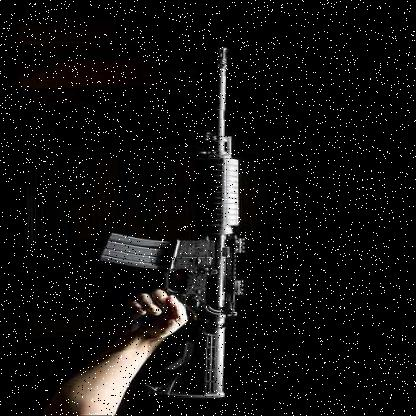rifle: (69, 40, 267, 396)
